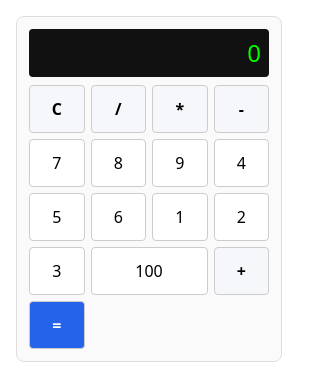
Calculator component › 9 + 1 = 10
This screenshot has width=320, height=379.
What coordinates should you click on to do the following:
click the button "9"
I would click on:
 (180, 163)
Its box is [152,139,208,187].
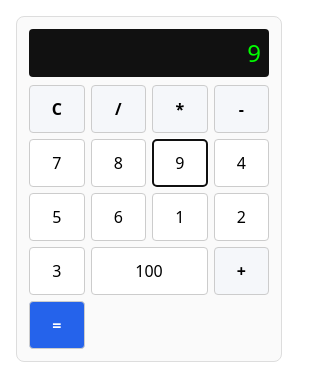
What coordinates should you click on to do the following:
click the button "+"
I would click on:
 (241, 271)
Its box is [214,247,269,295].
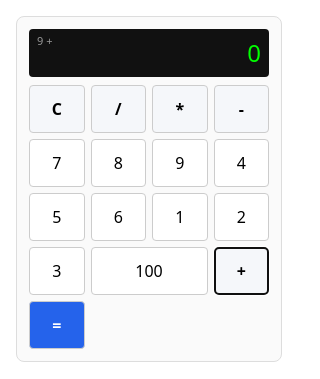
What coordinates should you click on to do the following:
click the button "1"
I would click on:
 (180, 217)
Its box is [152,193,208,241].
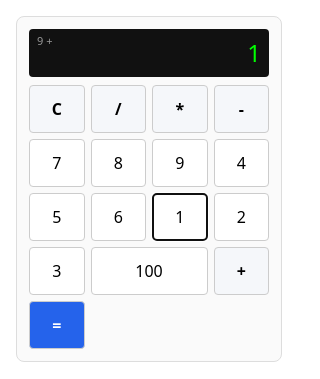
What coordinates should you click on to do the following:
click the button "="
I would click on:
 (57, 325)
Its box is [29,301,84,349].
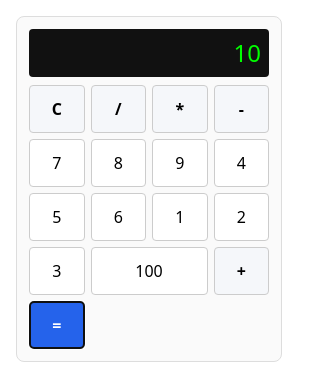
Check: the text "10" is shown, box [234,35,261,71]
